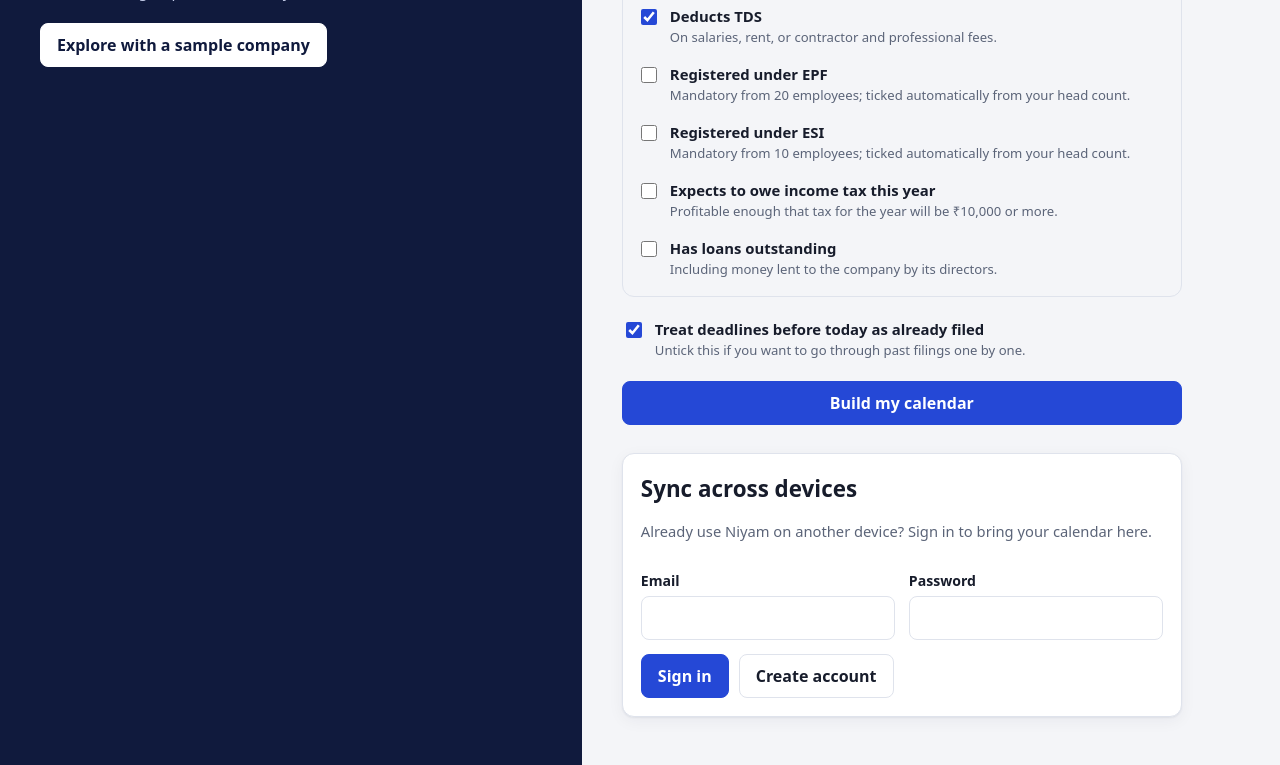
it: cloud sync › shows the server message and stays signed out when sign-in fails
The image size is (1280, 765).
(page scrolled)
Type "founder@example.com" into the field labelled "Email" at (768, 618), box [641,596,895,640]
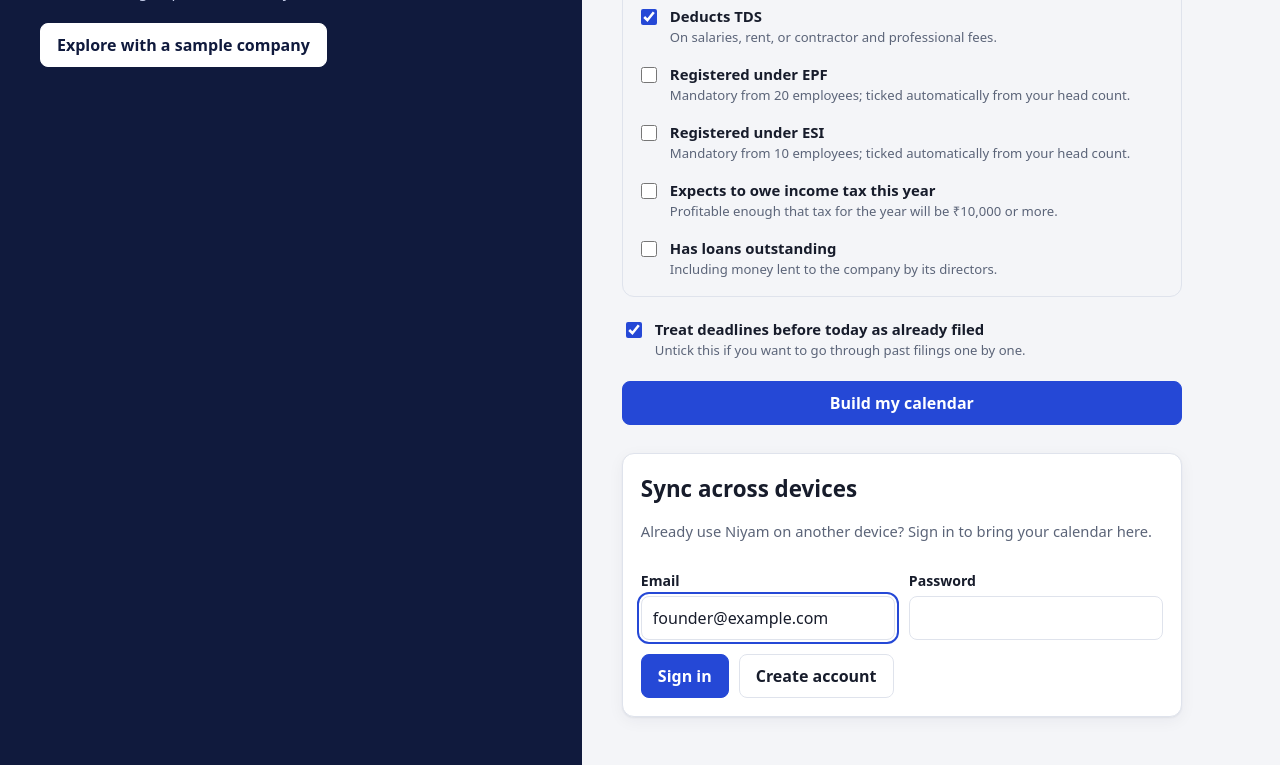
Type "correct-horse-battery" into the password field labelled "Password" at (1036, 618), box [909,596,1163,640]
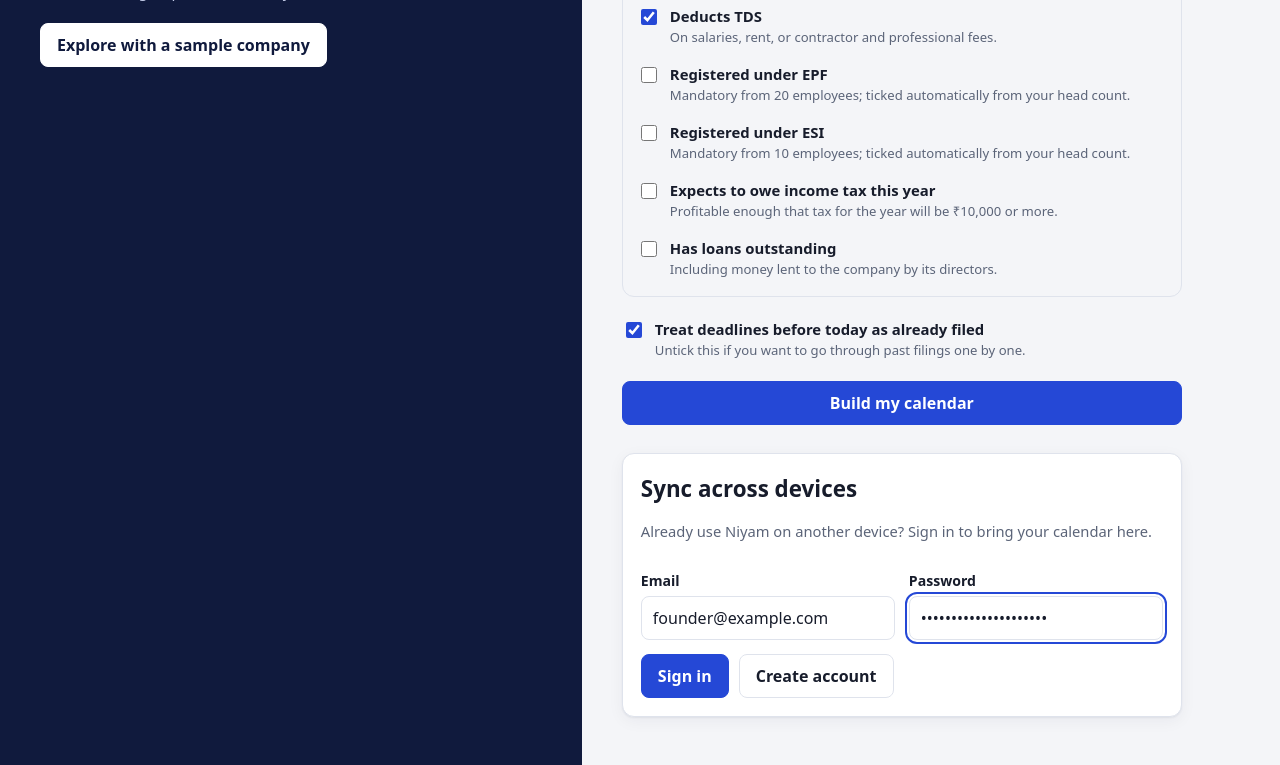
Click the button "Sign in" at (685, 676), box [641,654,729,698]
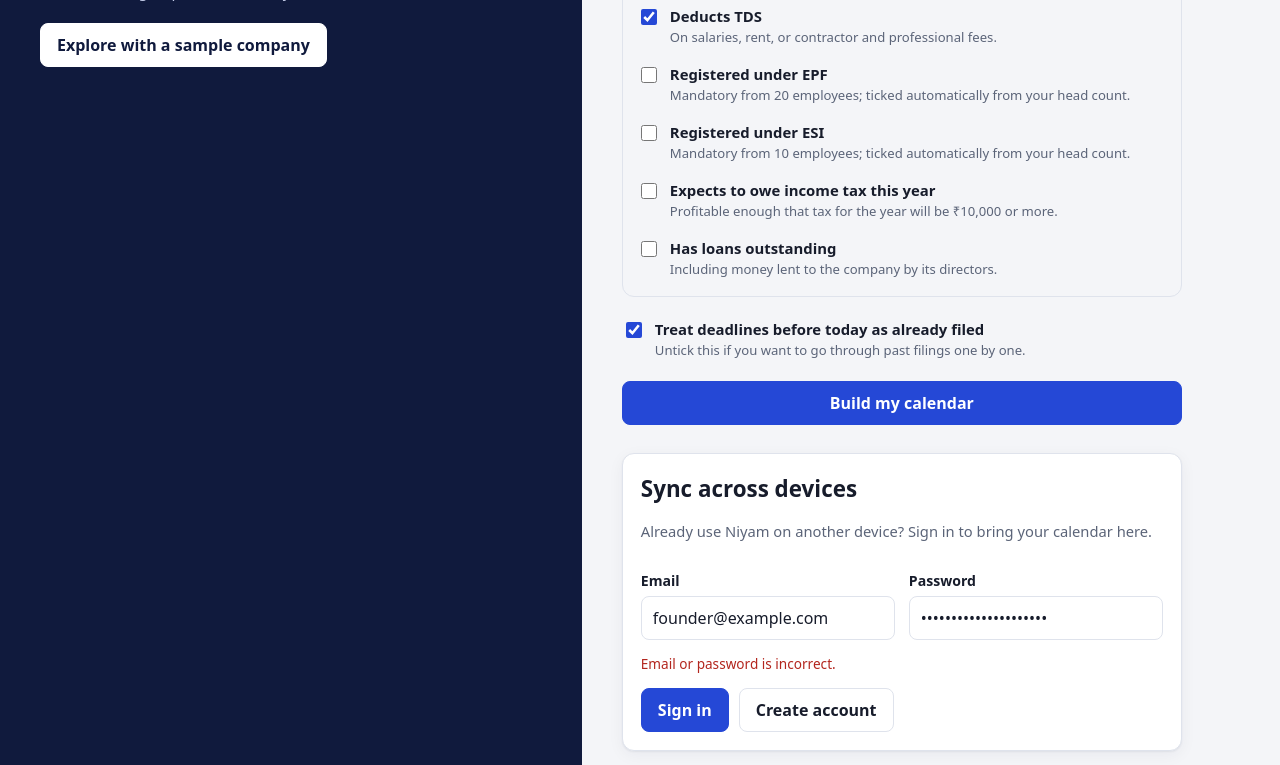
Expected: the button "Build my calendar" is shown, [622,381,1182,425]
Expected: the text "Email or password is incorrect." is shown, [641,654,836,673]
